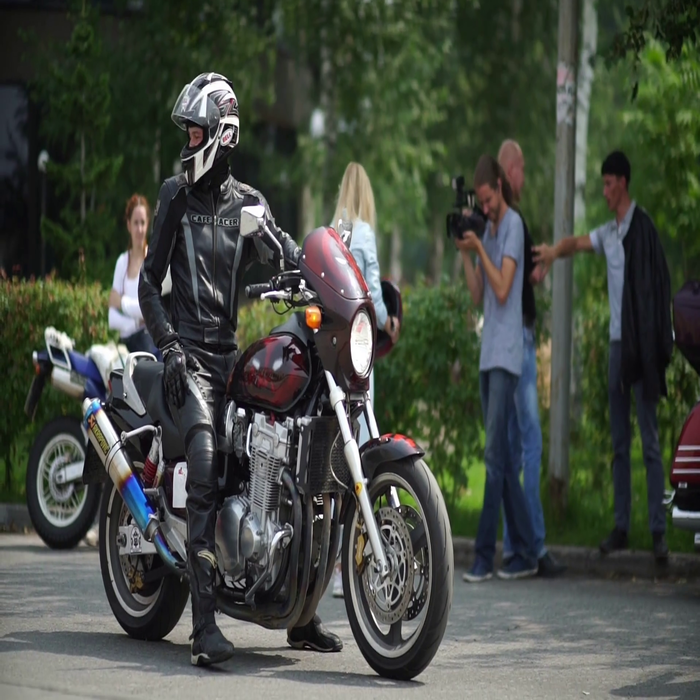h: (167, 62, 245, 201)
